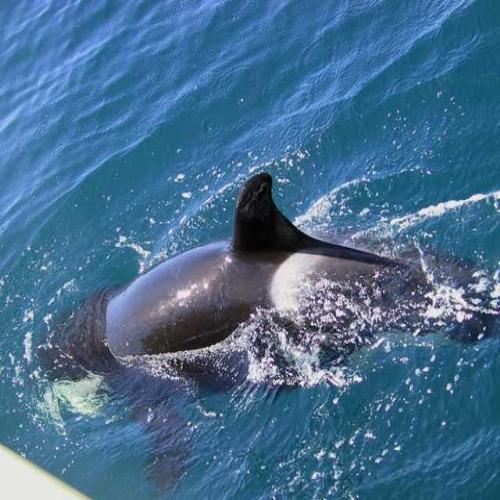killer_whale-endangered: (40, 164, 492, 421)
